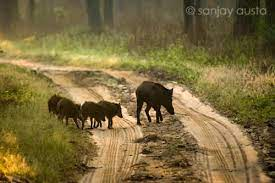boar: (133, 78, 177, 124), (55, 95, 85, 130), (94, 99, 124, 130), (81, 101, 107, 130)
